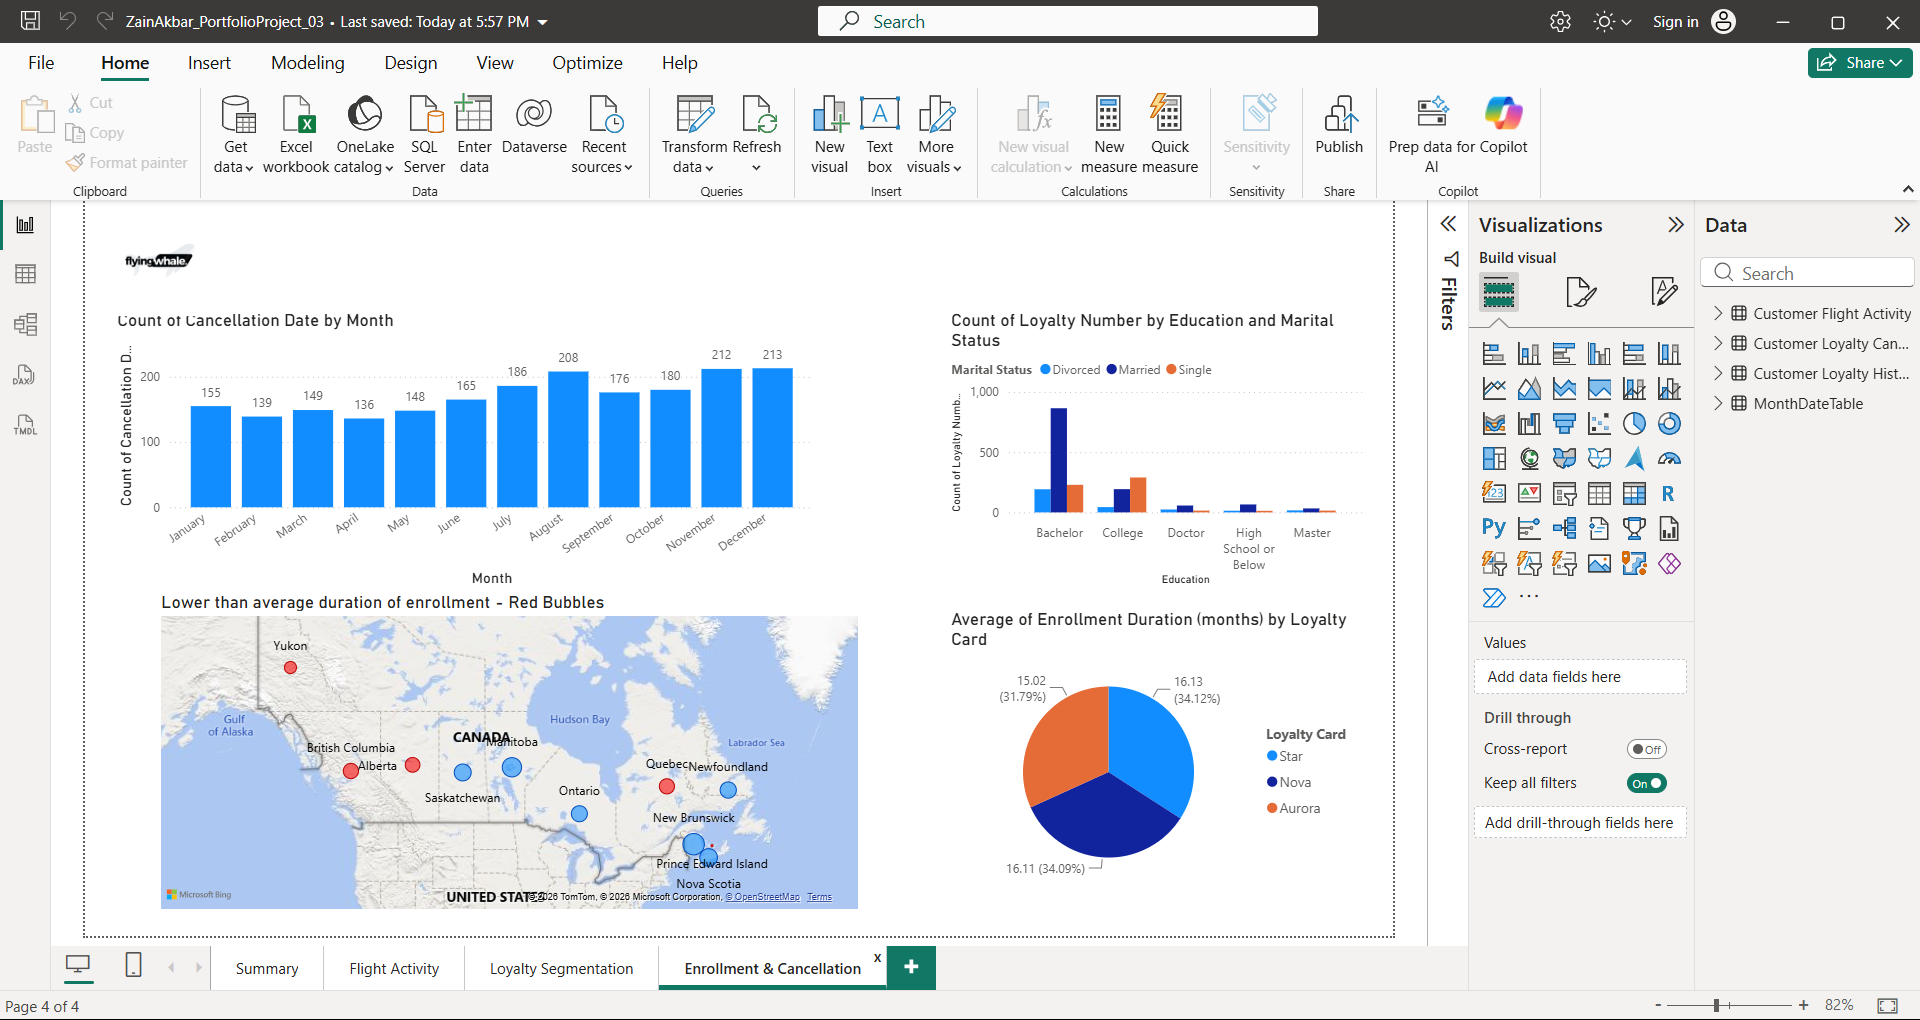

This screenshot's page, from the dashboard's own definition file:
{"tool":"powerbi","page":{"name":"Enrollment & Cancellation","canvas":[1280,720],"ordinal":3},"visuals":[{"type":"map","title":"Lower than average duration of enrollment - Red Bubbles","fields":{"Category":["Customer Loyalty Cancellation.Province"],"Size":["Customer Loyalty Cancellation.Avg_Cancel_Duration"]},"box":[70,382.5,691.2,316.2],"z":0},{"type":"clusteredColumnChart","fields":{"Category":["Customer Loyalty Cancellation.Cancellation Date.Variation.Date Hierarchy.Month"],"Y":["CountNonNull(Customer Loyalty Cancellation.Cancellation Date)"]},"box":[27.5,107.5,691.2,275],"z":2000},{"type":"clusteredColumnChart","fields":{"Series":["Customer Loyalty Cancellation.Marital Status"],"Category":["Customer Loyalty Cancellation.Education"],"Y":["CountNonNull(Customer Loyalty Cancellation.Loyalty Number)"]},"box":[842.5,107.5,412.5,275],"z":3000},{"type":"pieChart","fields":{"Y":["Avg(Customer Loyalty Cancellation.Enrollment Duration (months))"],"Category":["Customer Loyalty Cancellation.Loyalty Card"]},"box":[842.9,400,412.9,281.4],"z":4000},{"type":"image","box":[0,0,145,118.8],"z":4001}]}

Visuals, with their boxes on the page's 1280x720 design canvas (x1, y1, x2, y2). These are canvas units, not pixel positions in the 1920x1020 screenshot, which may show the page scaled, cropped or inside an application window:
"Lower than average duration of enrollment - Red Bubbles" map: crop(70, 382, 761, 699)
clusteredColumnChart - Customer Loyalty Cancellation.Cancellation Date.Variation.Date Hierarchy.Month x CountNonNull(Customer Loyalty Cancellation.Cancellation Date): crop(28, 108, 719, 382)
clusteredColumnChart - Customer Loyalty Cancellation.Marital Status x Customer Loyalty Cancellation.Education: crop(842, 108, 1255, 382)
pieChart - Avg(Customer Loyalty Cancellation.Enrollment Duration (months)) x Customer Loyalty Cancellation.Loyalty Card: crop(843, 400, 1256, 681)
image: crop(0, 0, 145, 119)
